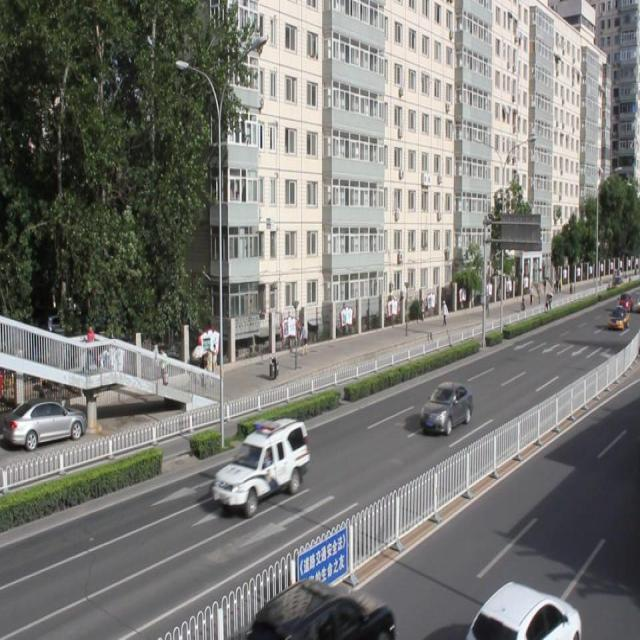car: (248, 576, 392, 640), (210, 419, 308, 508), (466, 578, 580, 640), (419, 380, 470, 433)
